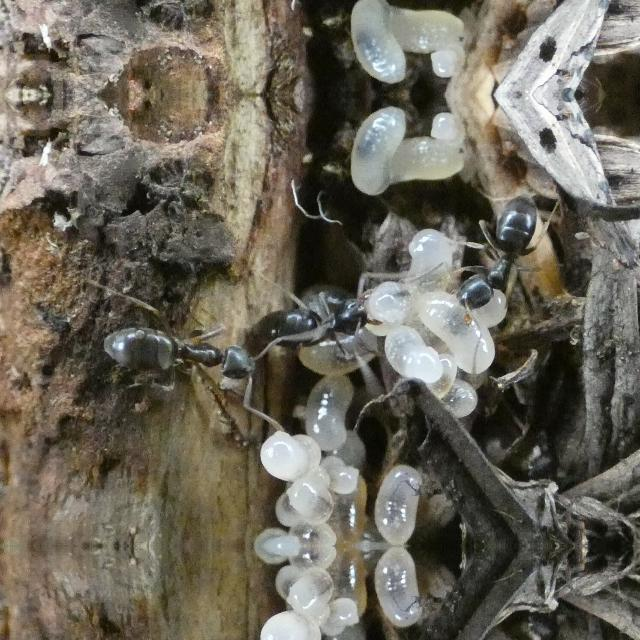Tapinoma: (77, 303, 275, 402), (430, 190, 562, 322), (252, 280, 382, 358)
